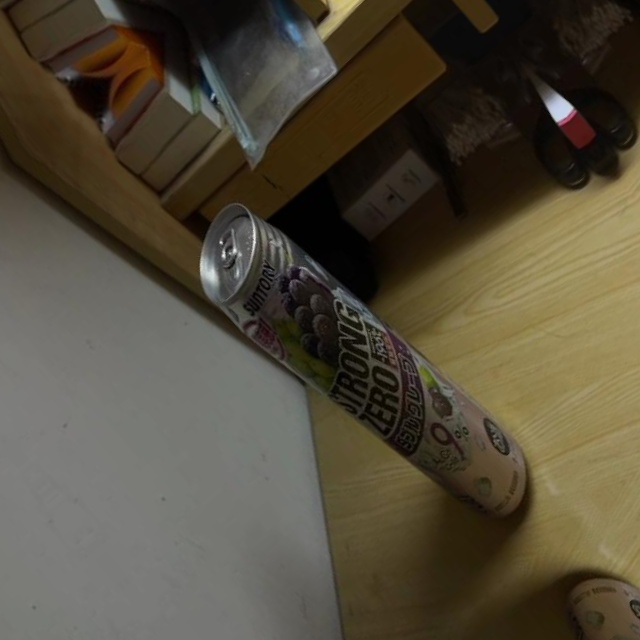Liquor: (173, 161, 555, 577)
